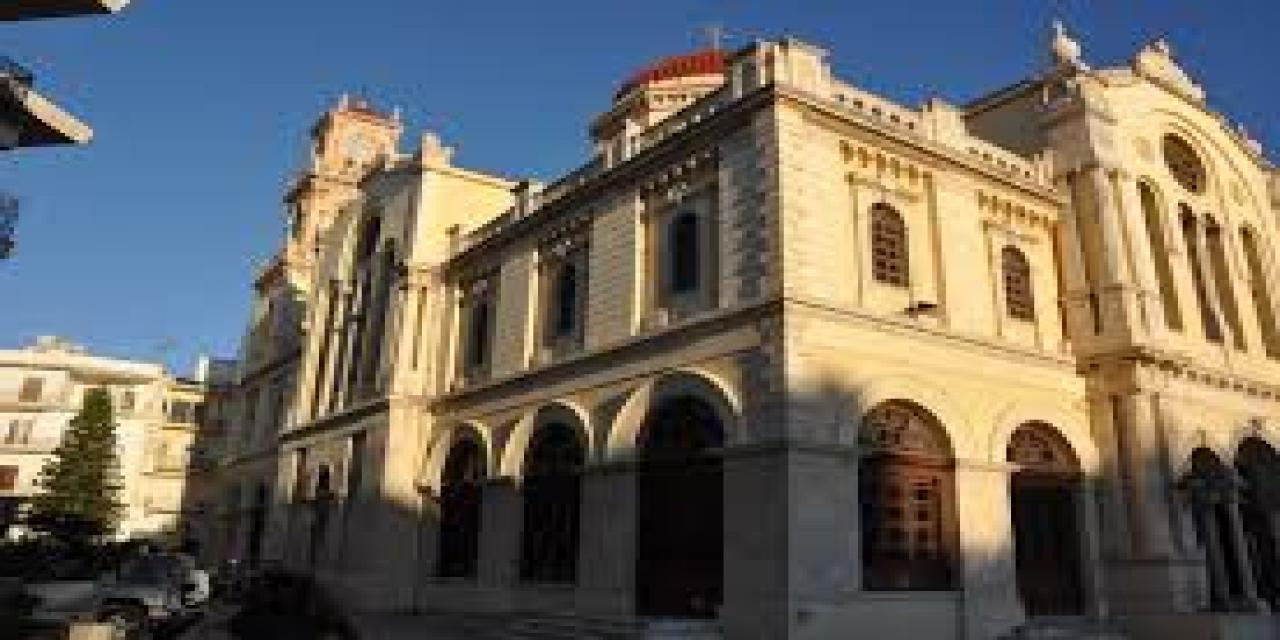Agios Minas: (206, 4, 1272, 640)
